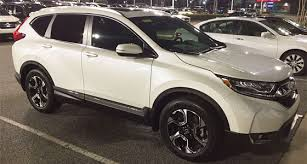Honda: (10, 6, 298, 159)
